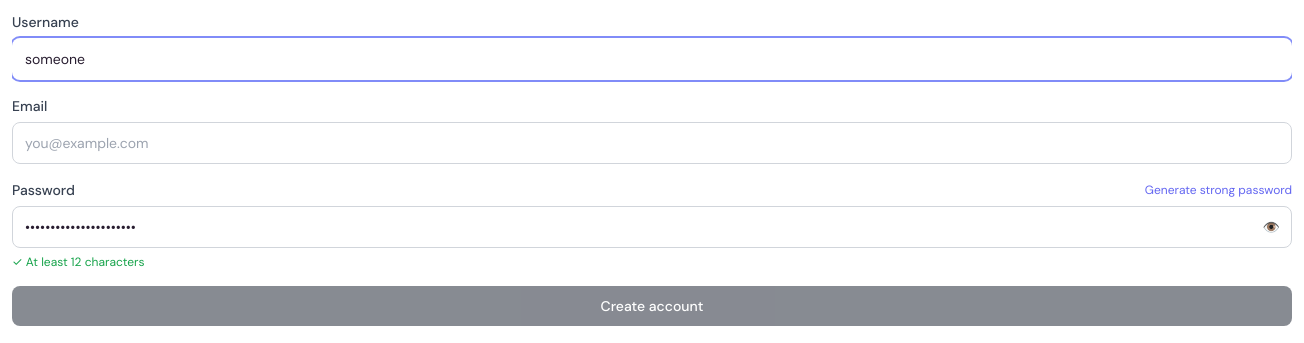
Scenario: CreateAccountForm email › keeps the submit disabled until an address is entered
Check: the button "Create account" is disabled, box [12, 286, 1292, 326]
Type "not-an-address" into the field labelled "Email" at (652, 143), box [12, 122, 1292, 164]
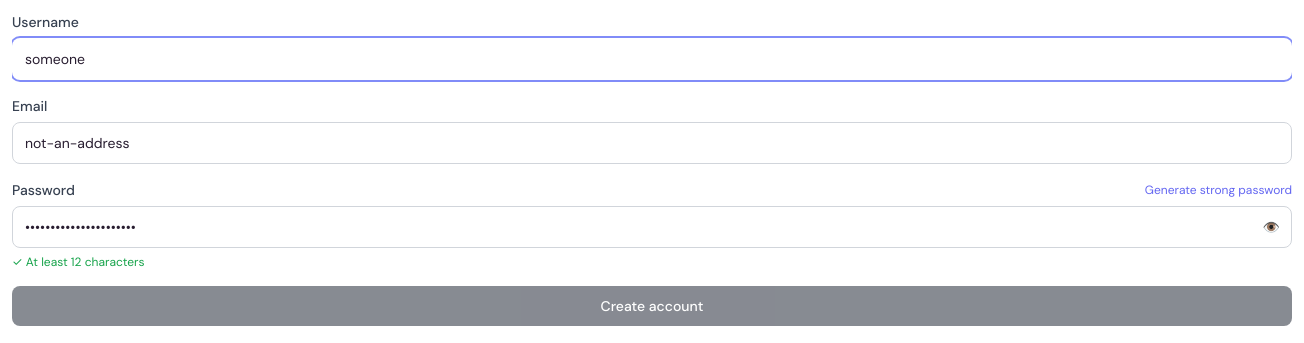
Check: the button "Create account" is disabled, box [12, 286, 1292, 326]
Replace the text in the field labelled "Email" with "someone@example.com" at (652, 143), box [12, 122, 1292, 164]
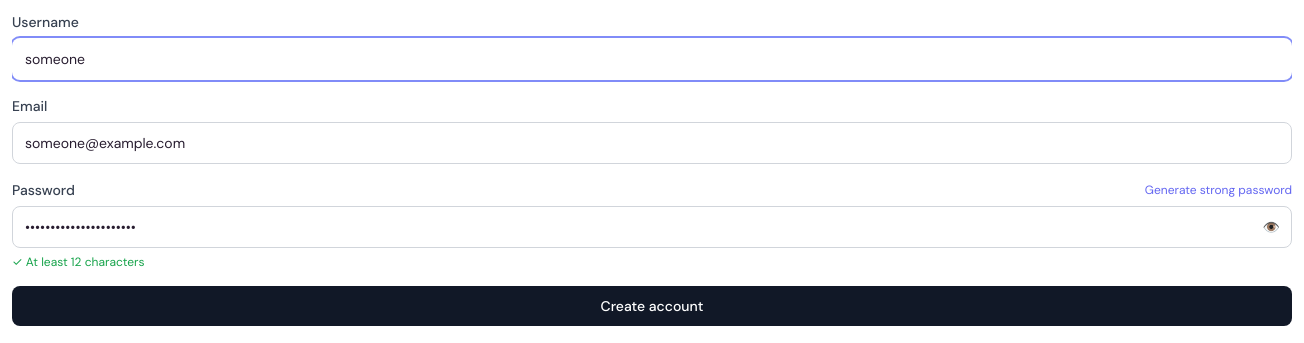
Check: the button "Create account" is enabled, box [12, 286, 1292, 326]
